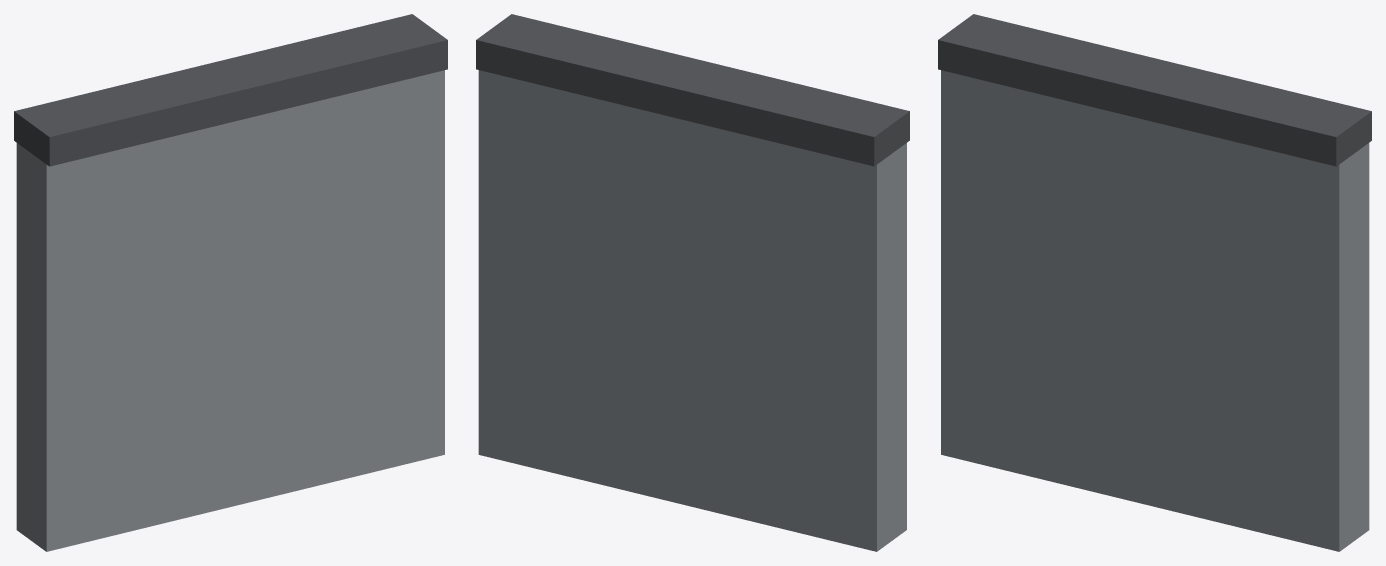
File: Wall.fbx
3 renders of one model, left to right at view 1: azimuth 30°, elevation 25°; view 2: azimuth 150°, elevation 25°; view 3: azimuth 330°, elevation 25°, orthographic.
Visible parts, largest first — view 1: Wall Pece; view 2: Wall Pece; view 3: Wall Pece.
Part boxes in pixels (x1,y1,x2,y2): Wall Pece: [14, 14, 447, 551]; Wall Pece: [476, 14, 909, 551]; Wall Pece: [938, 14, 1371, 551].
Size of the model in its own units: 200 by 30.89 by 200.
